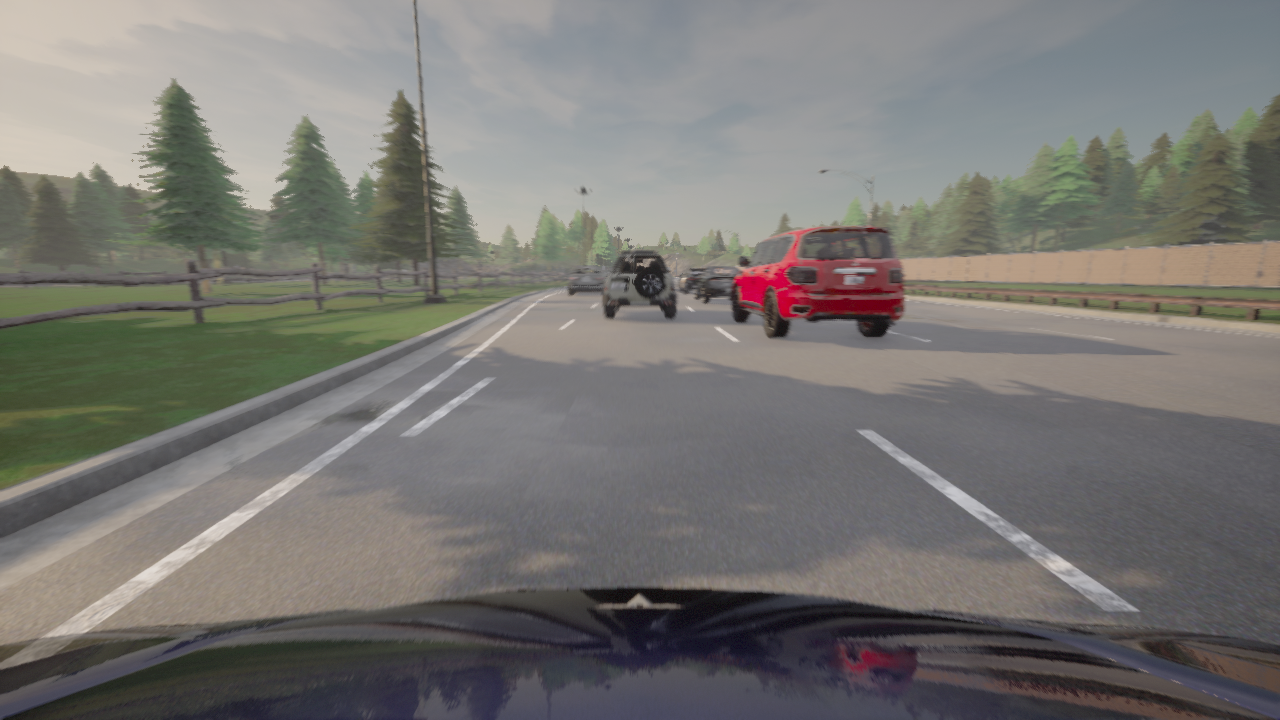cyclist: (0, 588, 1279, 719), (732, 226, 904, 337), (603, 251, 676, 318), (694, 267, 739, 303), (569, 266, 605, 294), (678, 269, 704, 293), (603, 271, 610, 280)
